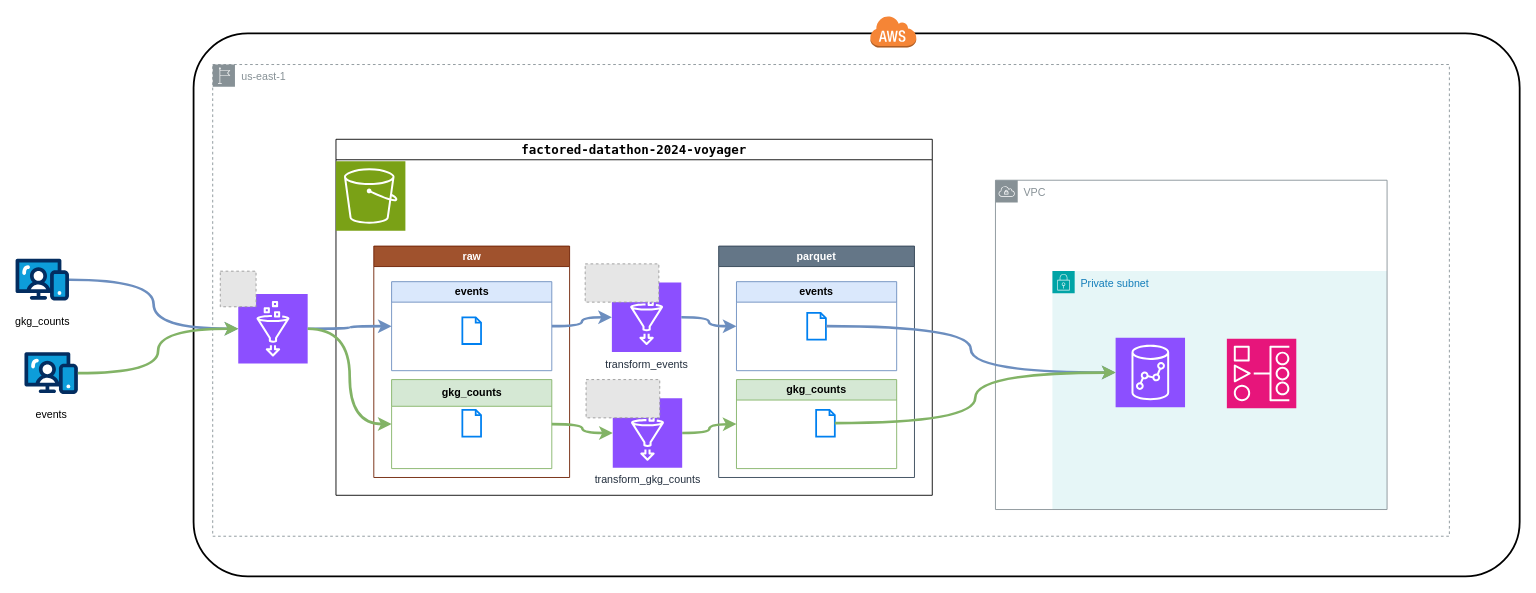
Image size: 1536x593. Some labels were removed from this diagram. Grey dashed boxes stand in for pictures. Each missing label, with the centre of its shape:
Airflow: (1261,373)
events.csv: (471,330)
events.snappy.parquet: (816,326)
gkg_counts.csv: (471,423)
gkg_counts.snappy.parquet: (825,423)
ingest_data: (272,328)
voyager_db: (1150,372)
